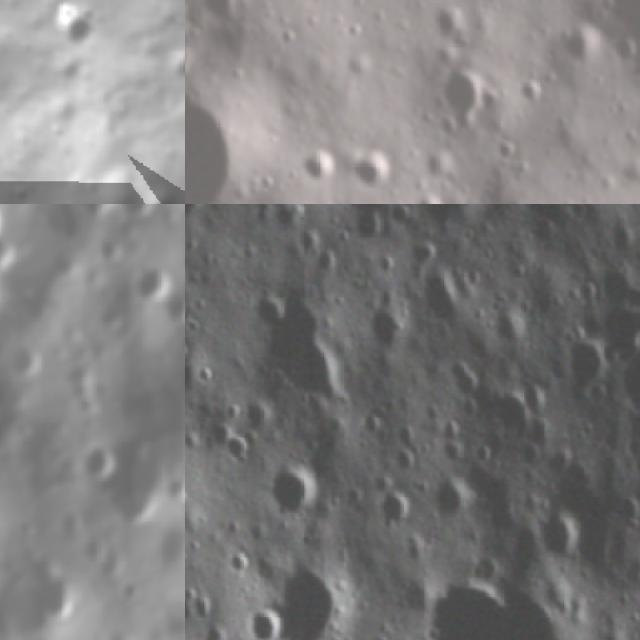crater: (429, 556, 601, 640), (185, 76, 246, 204), (114, 436, 183, 530), (14, 558, 75, 638), (284, 569, 346, 640), (48, 0, 113, 61), (439, 67, 490, 125), (273, 463, 322, 518), (76, 530, 132, 575), (413, 204, 490, 236), (0, 334, 48, 383), (540, 502, 586, 553), (344, 148, 396, 192), (568, 341, 607, 396), (129, 256, 180, 298), (82, 436, 126, 482), (247, 597, 286, 640), (85, 292, 126, 332), (440, 474, 480, 514), (560, 28, 601, 66), (381, 487, 423, 522), (621, 347, 640, 419), (256, 288, 288, 330), (428, 6, 464, 43), (244, 392, 276, 431), (300, 150, 334, 185), (514, 76, 546, 111), (156, 282, 185, 320), (199, 0, 242, 25), (428, 153, 457, 182), (0, 225, 17, 272), (224, 431, 251, 458), (185, 204, 213, 223), (495, 141, 517, 165), (121, 204, 156, 217), (416, 191, 445, 204)
